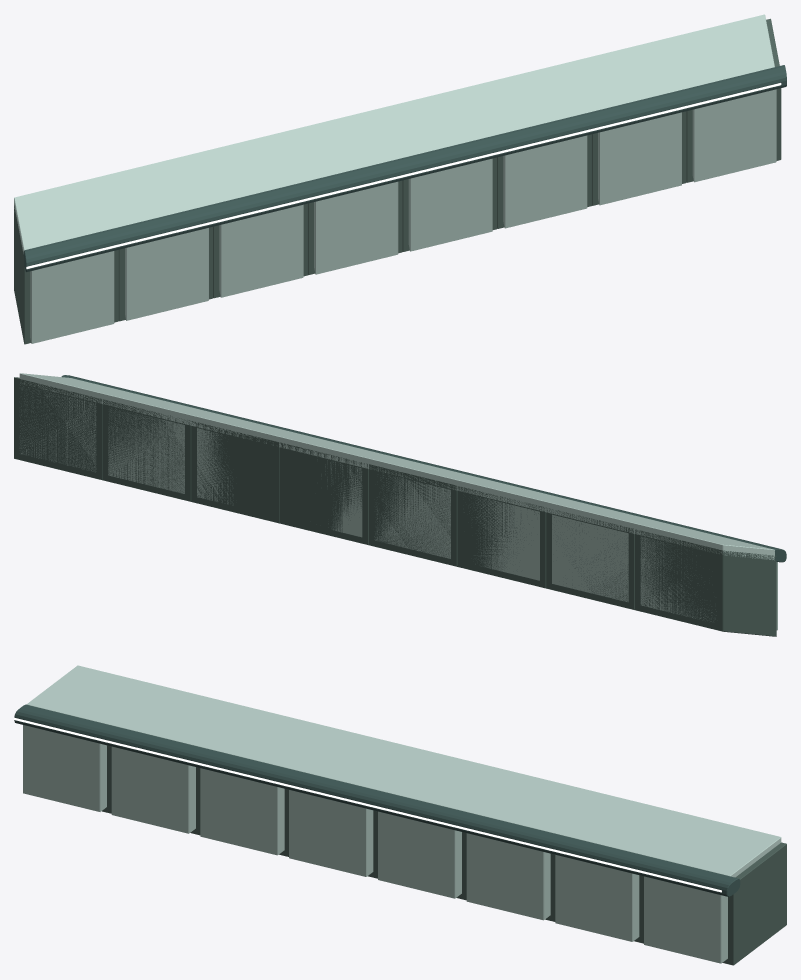
Rendered from Terrain_TopRun8R.gltf.
3 renders of one model, top to bottom at view 1: azimuth 30°, elevation 25°; view 2: azimuth 150°, elevation 25°; view 3: azimuth 330°, elevation 25°, orthographic. The views are drawn at different scales.
Visible parts, largest first — view 1: Terrain_TopRun8R_baked; view 2: Terrain_TopRun8R_baked; view 3: Terrain_TopRun8R_baked.
Boxes of the visible parts, box(x1,y1,x2,y2) form: Terrain_TopRun8R_baked: box(14, 14, 786, 344); Terrain_TopRun8R_baked: box(14, 373, 786, 636); Terrain_TopRun8R_baked: box(14, 665, 786, 965).
Size of the model in its own units: 8.29 by 1.18 by 0.74.
